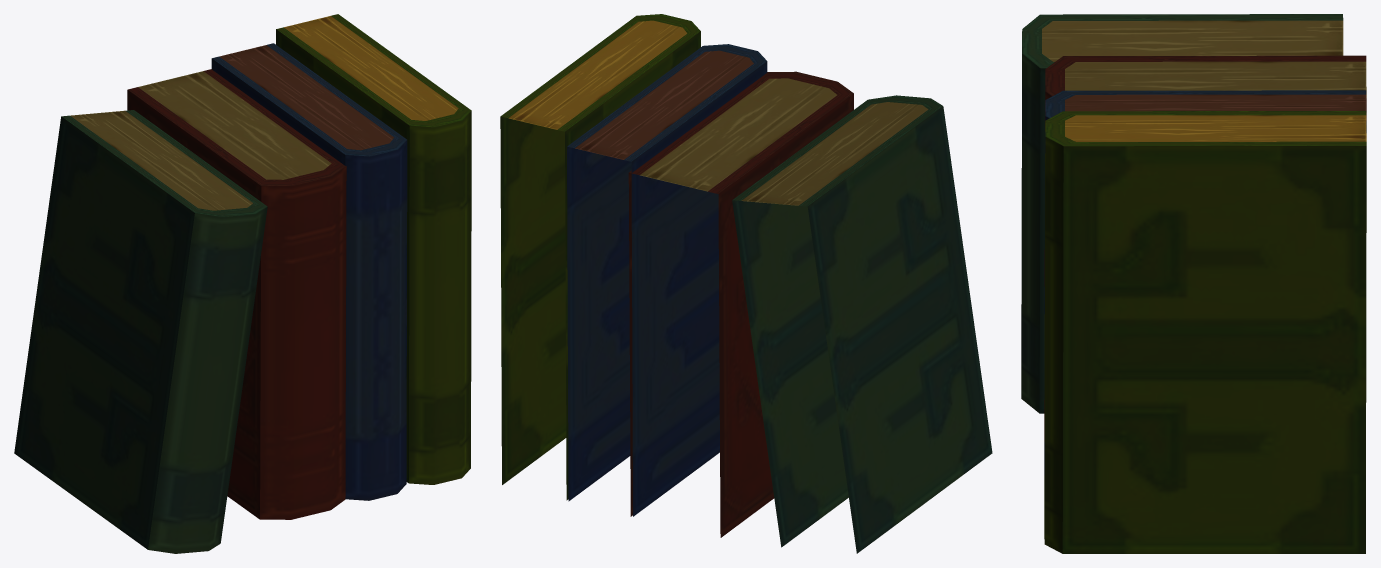
The model's file is prop_bookgroup_small_1.glb.
3 views of the same model, side by side, from view 1: azimuth 30°, elevation 25°; view 2: azimuth 150°, elevation 25°; view 3: azimuth 270°, elevation 25° (orthographic). The views are drawn at different scales.
Visible parts, largest first — view 1: BookGroup_Small_1; view 2: BookGroup_Small_1; view 3: BookGroup_Small_1.
Part boxes in pixels (x1,y1,x2,y2): BookGroup_Small_1: (14, 14, 471, 553); BookGroup_Small_1: (500, 14, 992, 553); BookGroup_Small_1: (1021, 14, 1366, 553).
Bounding box in the file's own units: 0.2893 × 0.2983 × 0.2256.
Materials: 1 (1 with a texture image).
